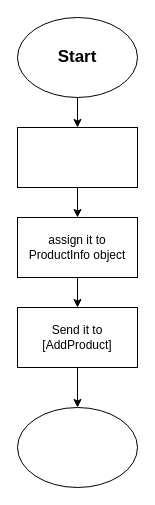
Some shapes in this 155 by 505 pixel diagram are drawn without their labels. Each missing label, with the centre of its shape:
"END" belongs at (77,447).
"Enter Product Data" belongs at (77,157).
